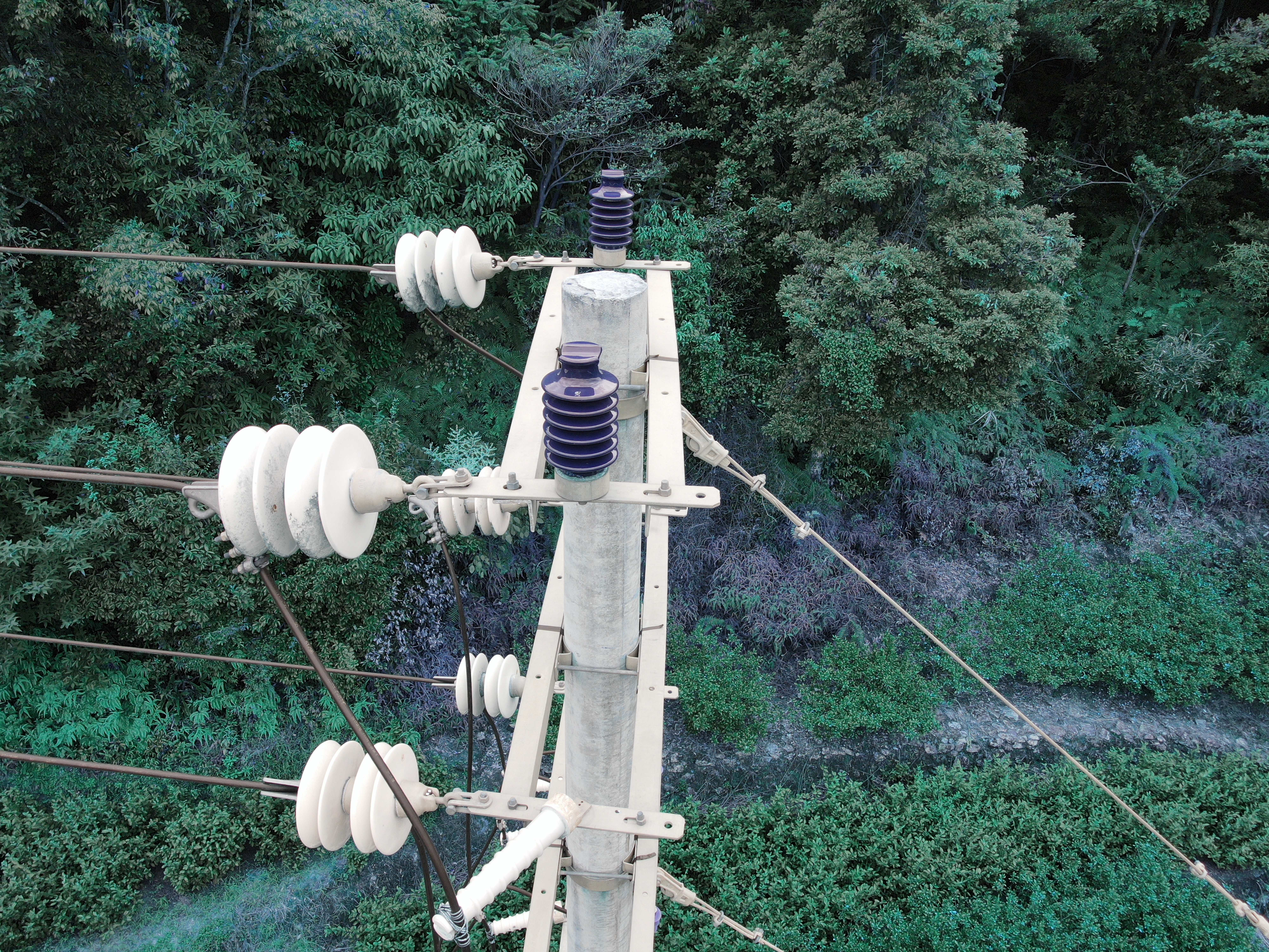severe_soiling_no_discharge_whole: (214, 414, 410, 562), (391, 218, 502, 319)
